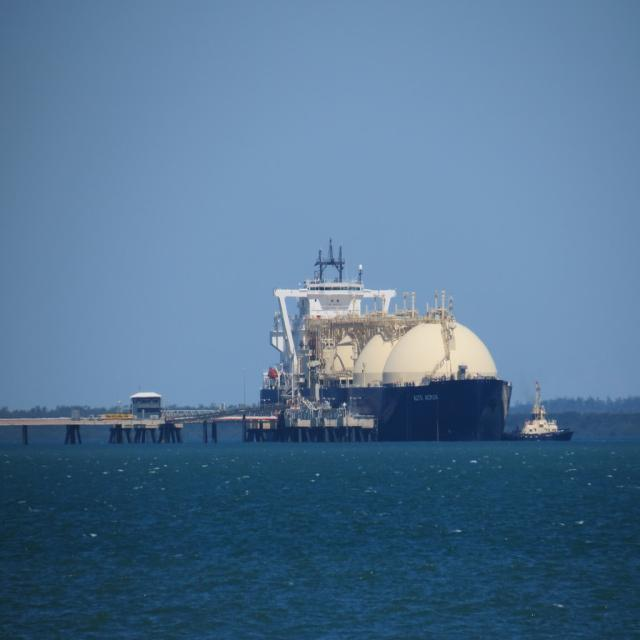Boat: (520, 391, 576, 447)
